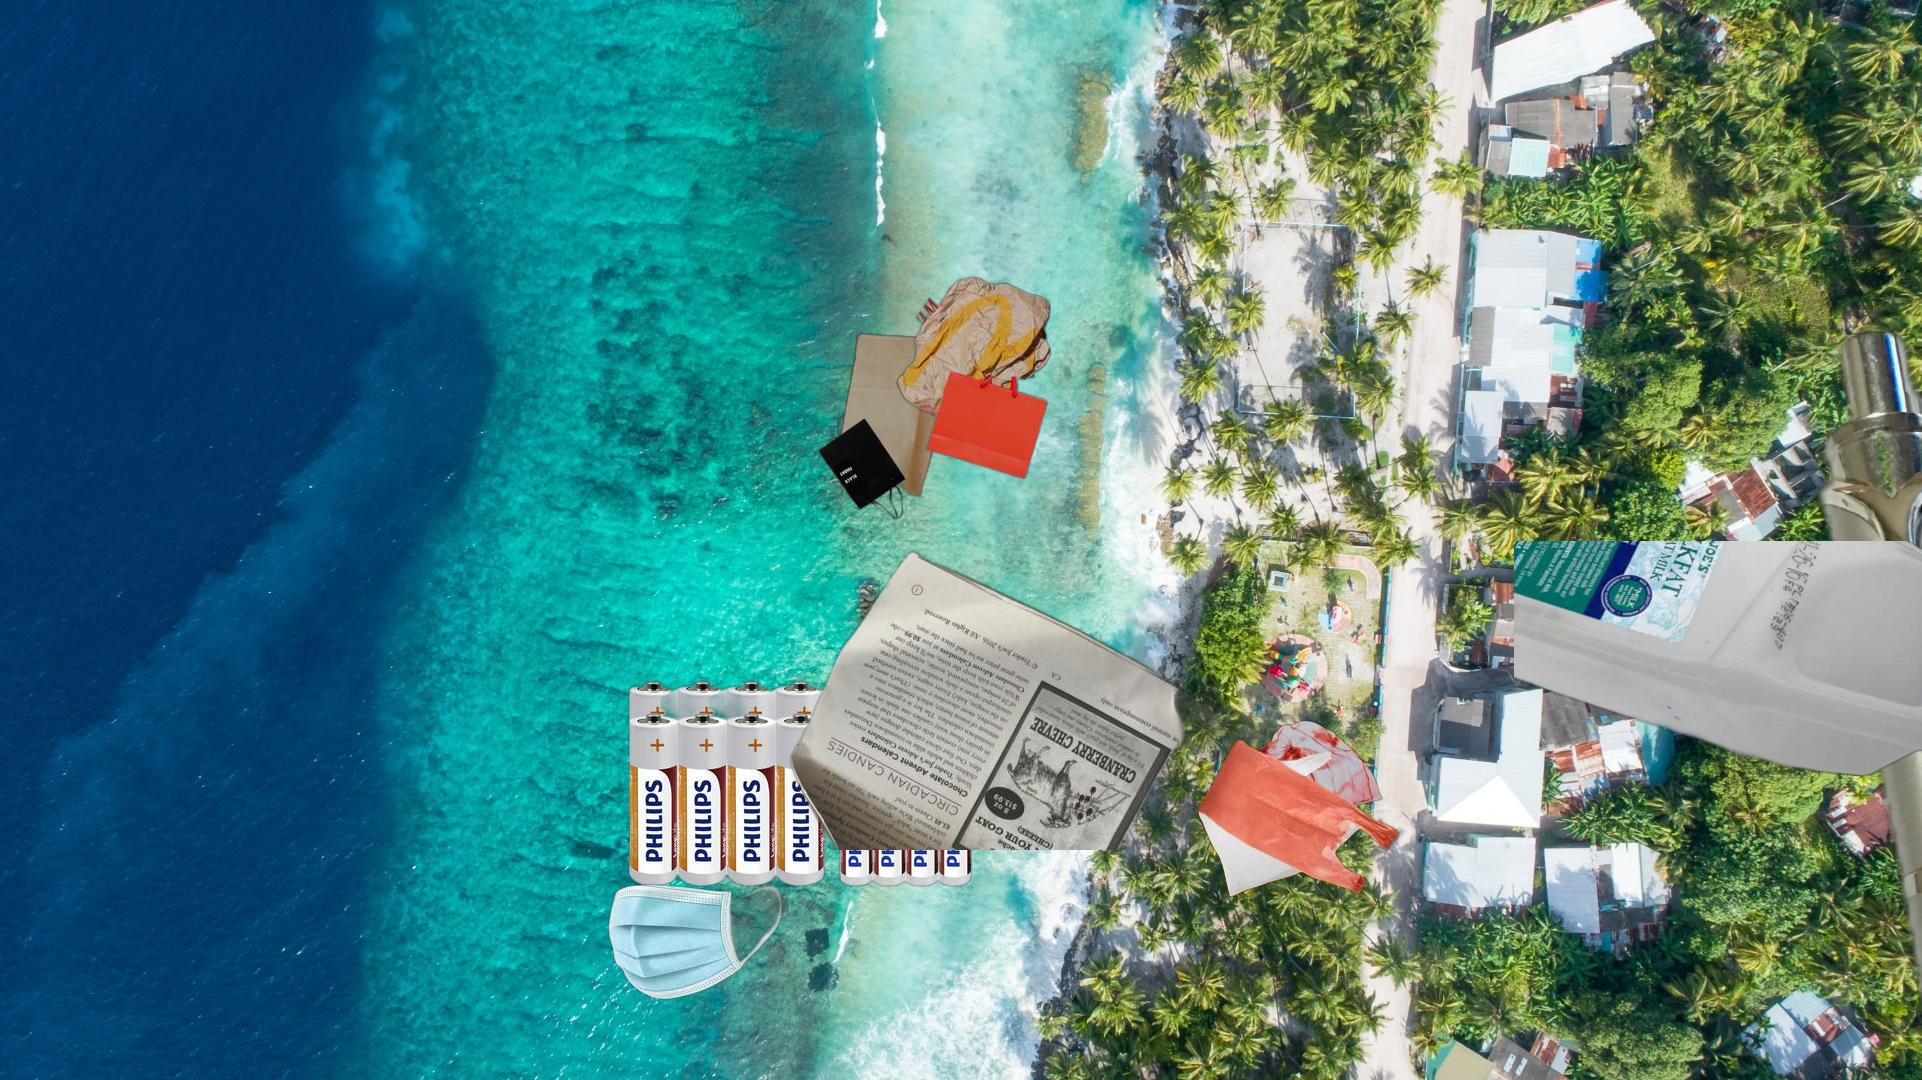battery: (625, 679, 975, 890)
paper: (786, 549, 1284, 850)
paper-bag: (818, 275, 1054, 481), (816, 330, 958, 525)
penholder: (1800, 280, 1922, 1080)
plastic-bag: (1195, 717, 1402, 900)
plastic-bottles: (1514, 541, 1922, 780)
trash: (605, 880, 788, 1002)
